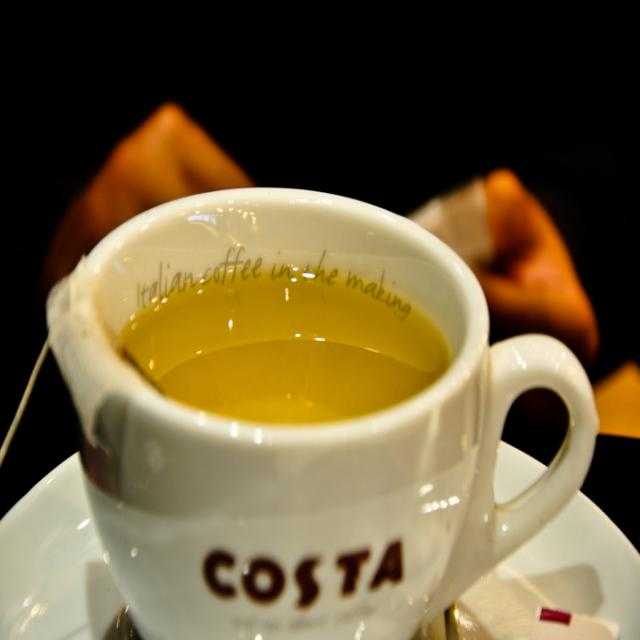Coffee: (118, 258, 453, 422)
Tea: (111, 262, 453, 422)
